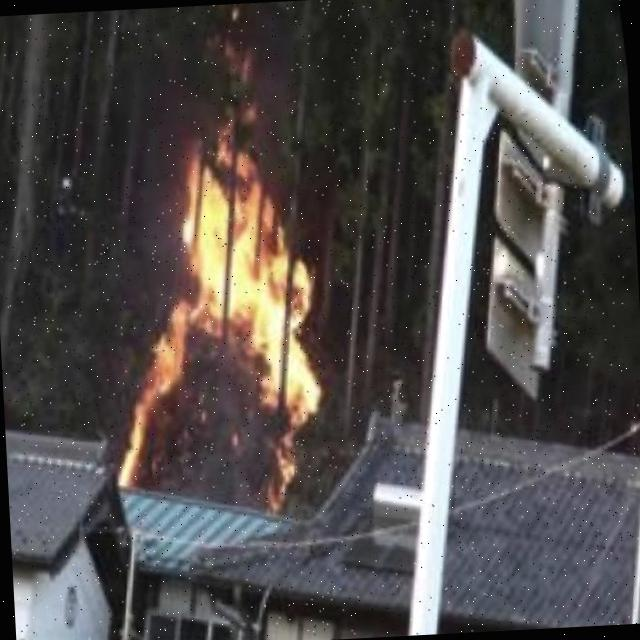fire: (84, 54, 340, 526)
